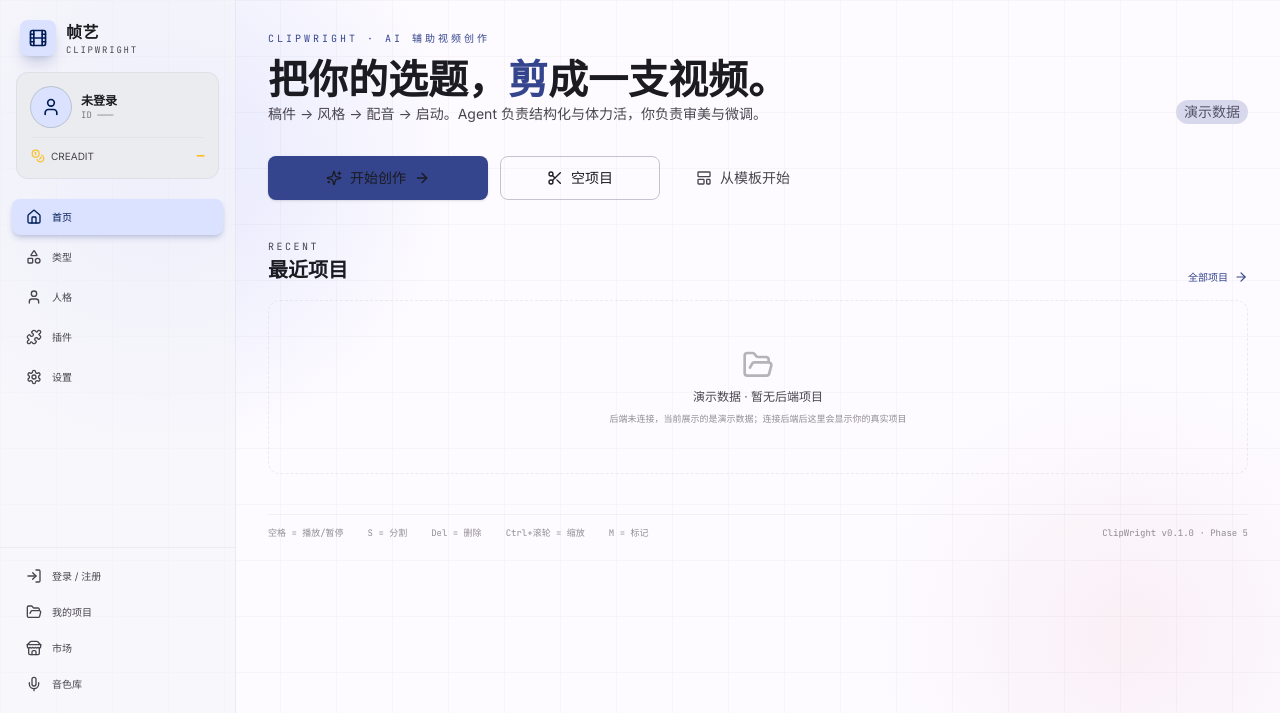
Test: 图一：左侧导航切换右侧内容区 › 「开始创作」大按钮 → 切入创作 tab（图二表单）
Click the button "开始创作".
click(378, 178)  # box top-left (268, 156), bottom-right (488, 200)
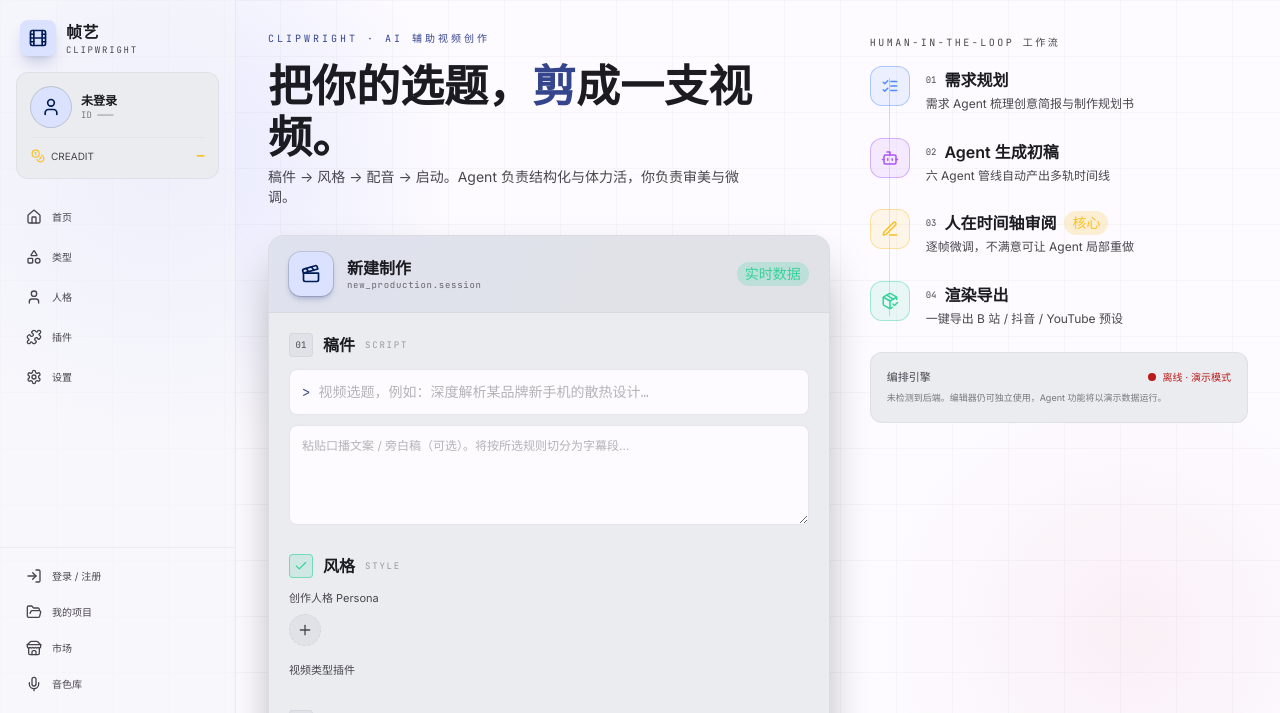
Expected: the text box with placeholder "粘贴口播文案 / 旁白稿（可选）。将按所选规则切分为字幕段…" is shown, top-left (289, 425), bottom-right (809, 525)
